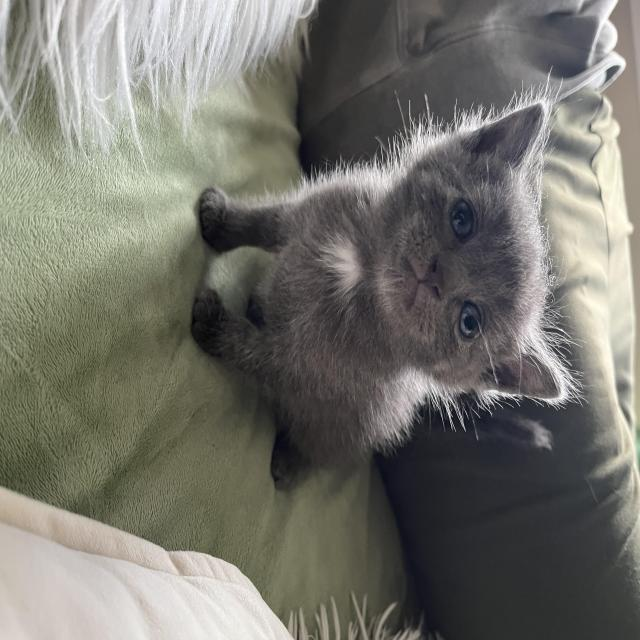russian_blue_cat: (368, 95, 579, 408)
